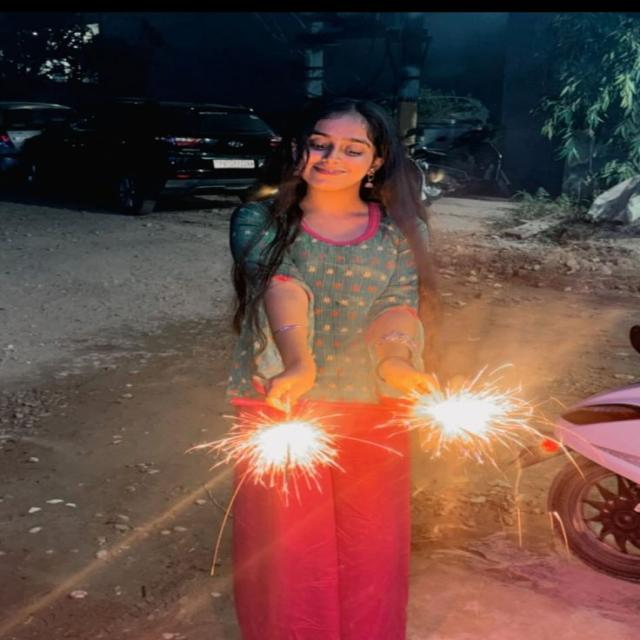fire: (239, 417, 337, 471), (413, 389, 515, 439)
